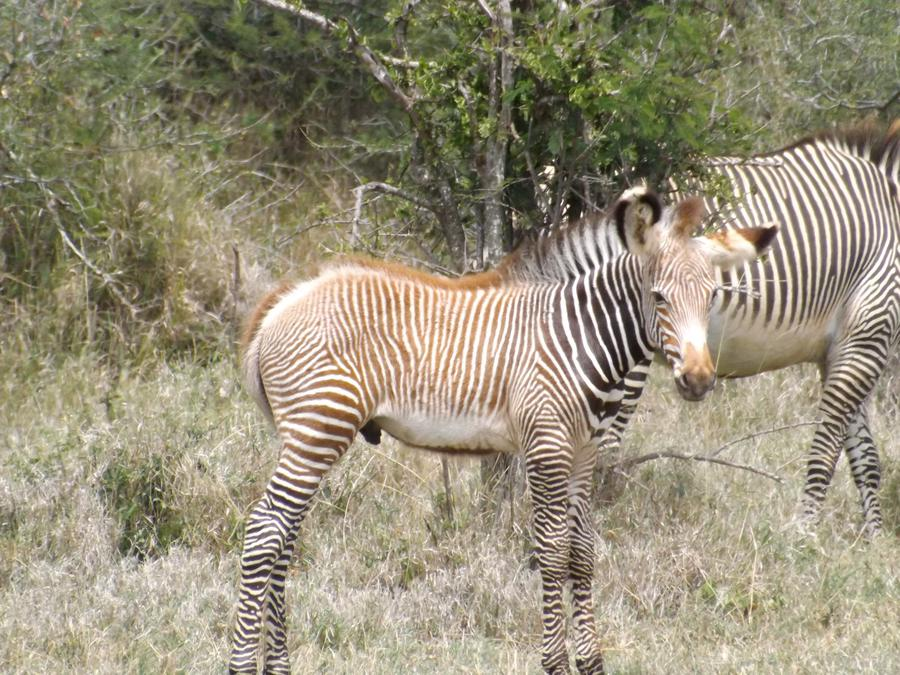zebra_grevys: (260, 266, 583, 450)
